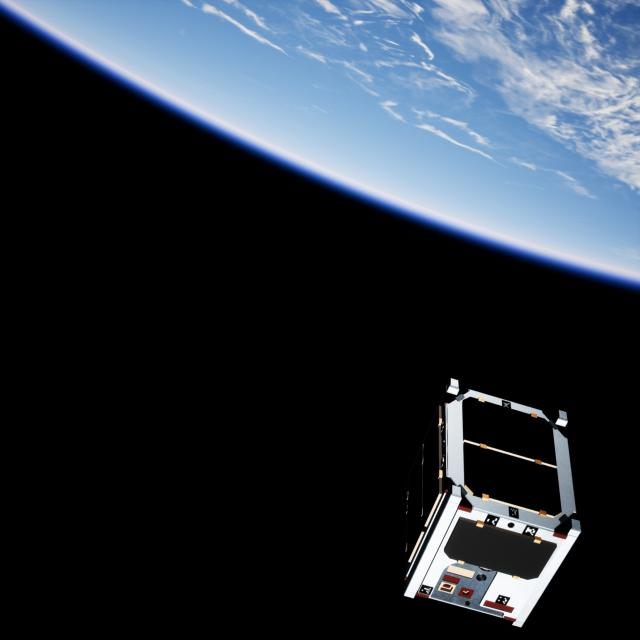medium_debris: (396, 377, 592, 625), (410, 639, 412, 640)
